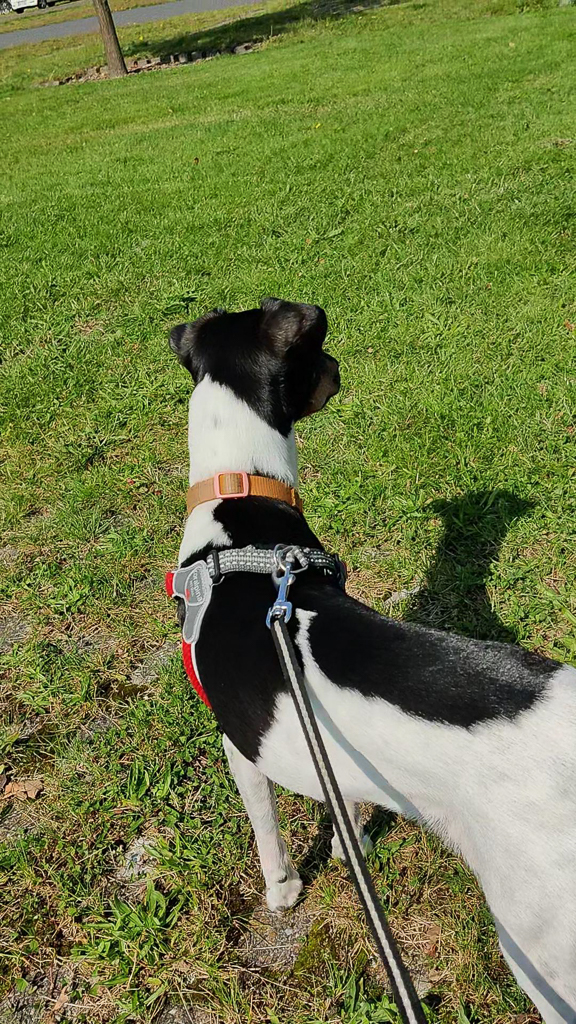Dog: (147, 270, 576, 1024)
